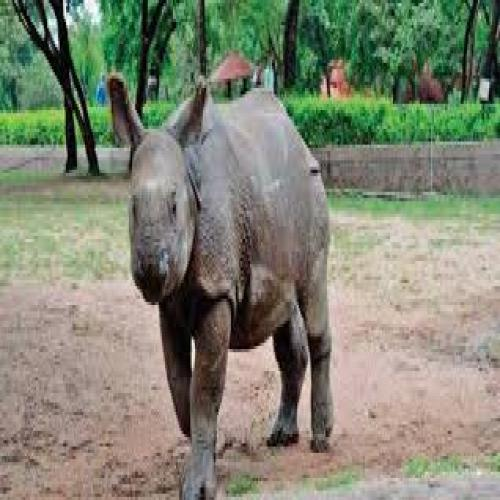rhino-endangered: (114, 72, 328, 500)
